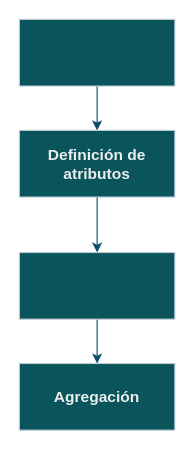
Image size: 194x450. Some labels were removed from this diagram. The box of each missing label's shape, as (x1, y1, x2, y2) in pixels:
Concepto teórico: (18, 18, 175, 86)
Selección de indicadores y variables: (18, 251, 175, 319)
